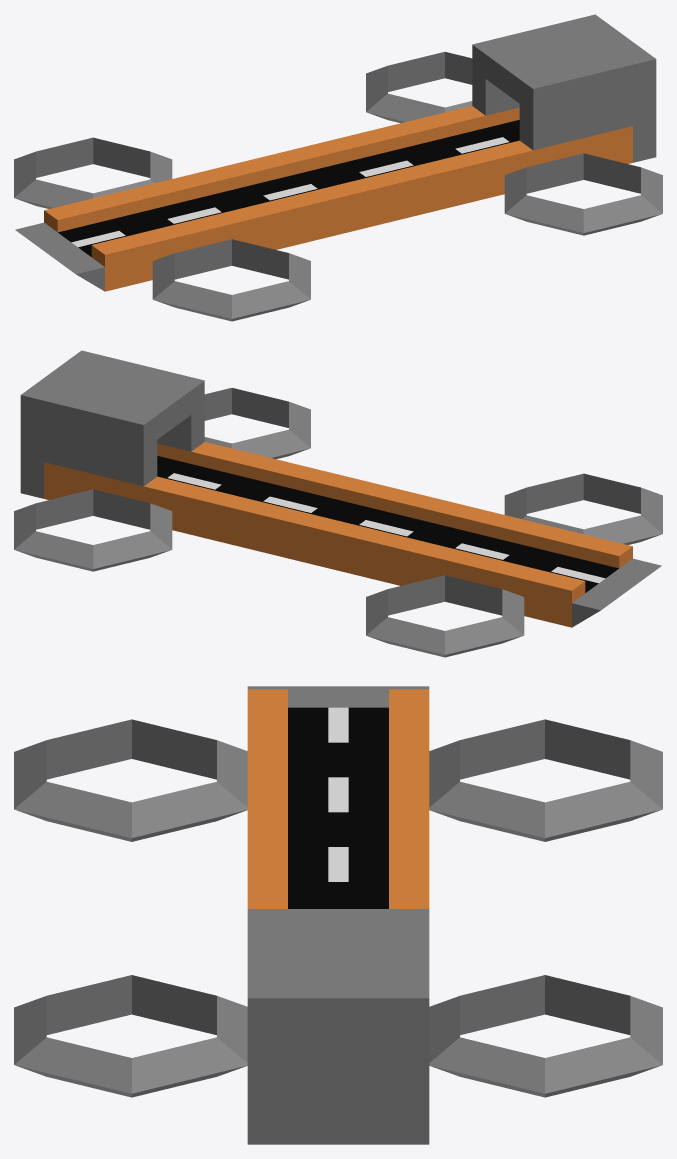
Rendered from AllModels.fbx.
3 views of the same model, one above another, from view 1: azimuth 30°, elevation 25°; view 2: azimuth 150°, elevation 25°; view 3: azimuth 270°, elevation 25° (orthographic). The views are drawn at different scales.
Parts seen in each view (by area): view 1: Torus.007; view 2: Torus.007; view 3: Torus.007.
Boxes of the visible parts, left/top/right/bottom form: Torus.007: left=14, top=14, right=662, bottom=321; Torus.007: left=14, top=350, right=662, bottom=657; Torus.007: left=14, top=686, right=662, bottom=1144.
Bounding box in the file's own units: 19800 × 3200 × 12877.
